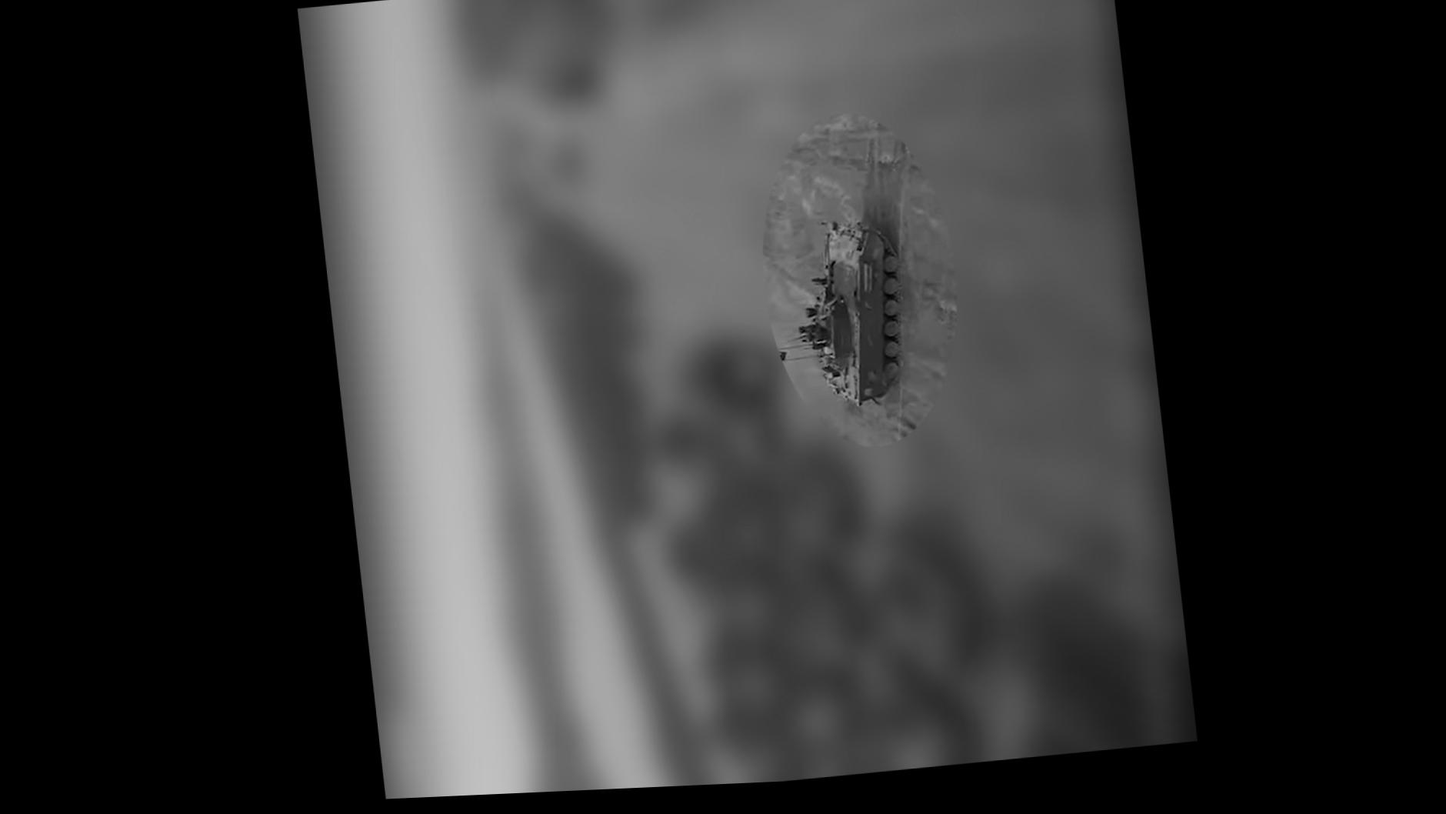armored_car: (791, 206, 915, 418)
